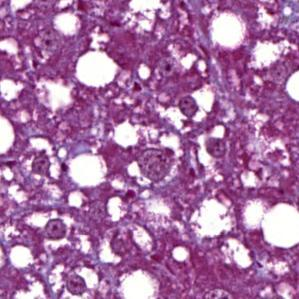steatosis: (74, 48, 121, 90)
